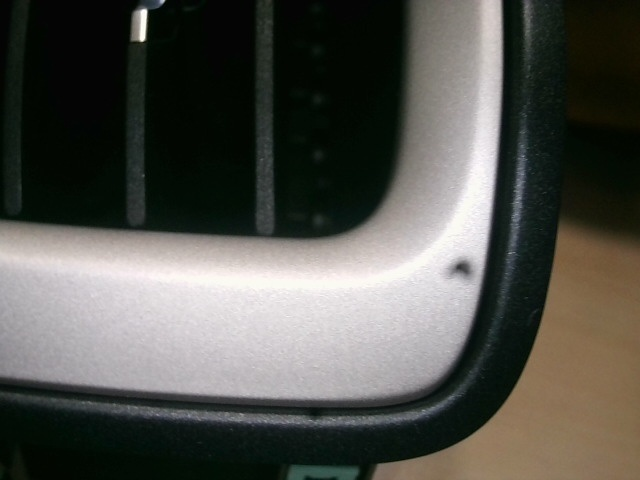NG: (523, 303, 543, 328)
